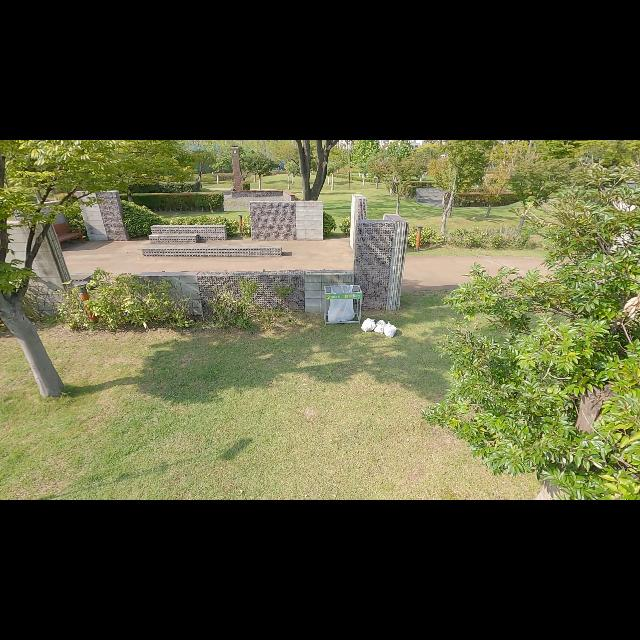trash: (360, 316, 378, 334), (383, 320, 397, 338), (374, 318, 388, 334)
